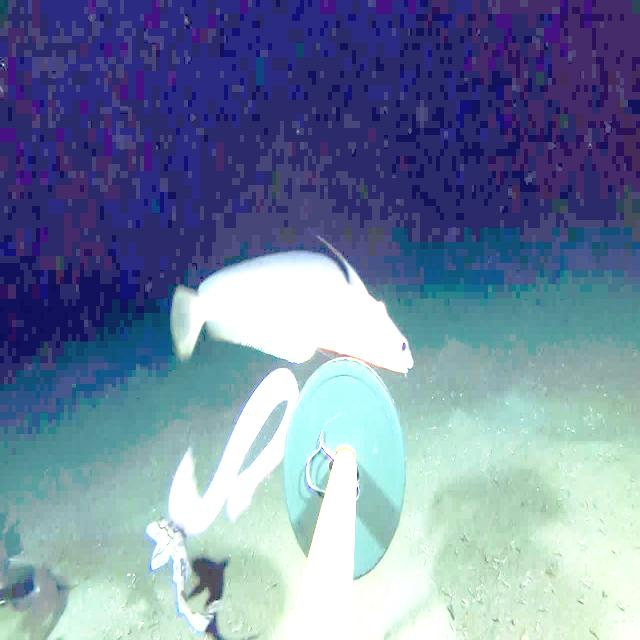eel: (156, 346, 309, 562)
fish: (167, 263, 414, 397), (0, 499, 79, 625), (138, 517, 206, 639)
pole: (280, 359, 406, 639)
